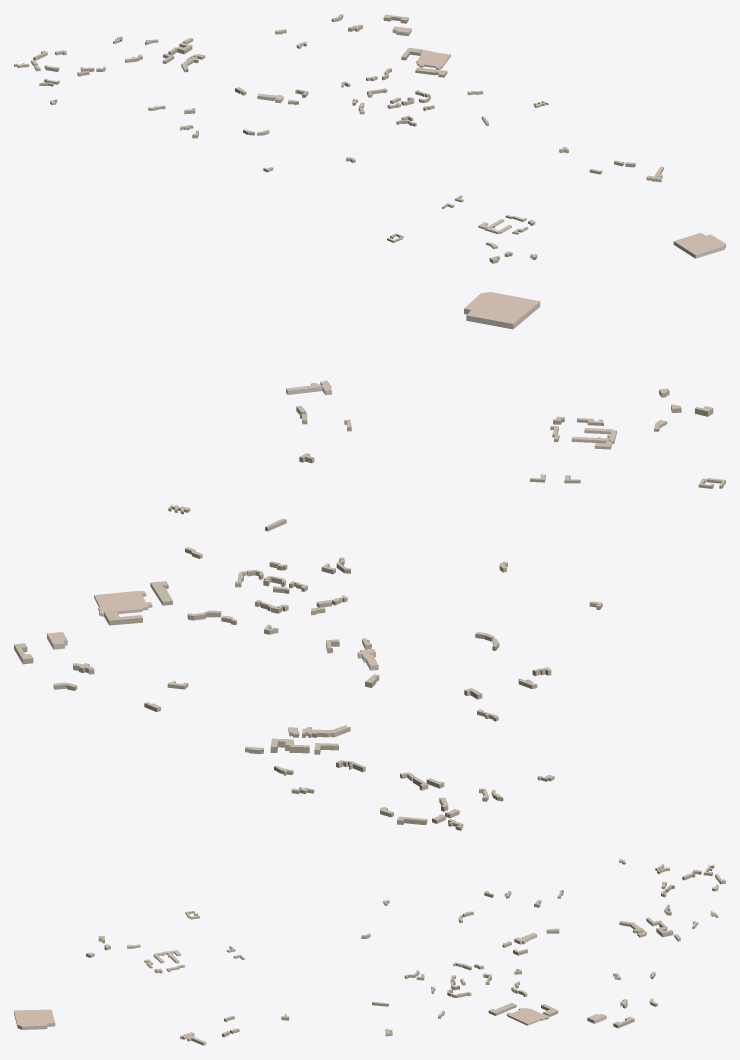
3 renders of one model, top to bottom at view 1: azimuth 30°, elevation 25°; view 2: azimuth 150°, elevation 25°; view 3: azimuth 270°, elevation 25°, orthographic. The views are drawn at different scales.
Bounding box in the file's own units: 1422 × 18.71 × 2331.
